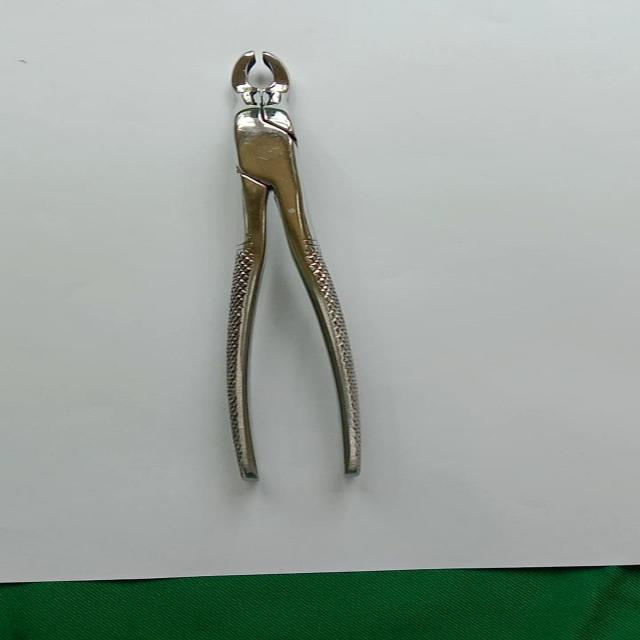BayonetForcep: (213, 45, 380, 485)
